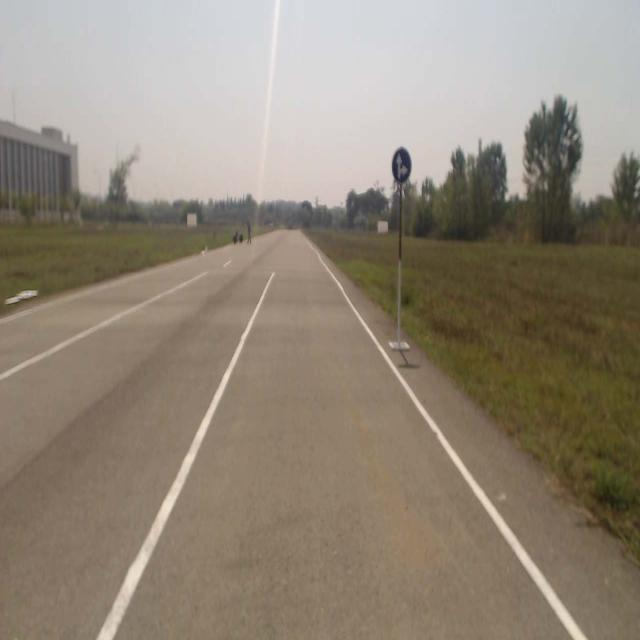ilerisag: (393, 147, 411, 182)
